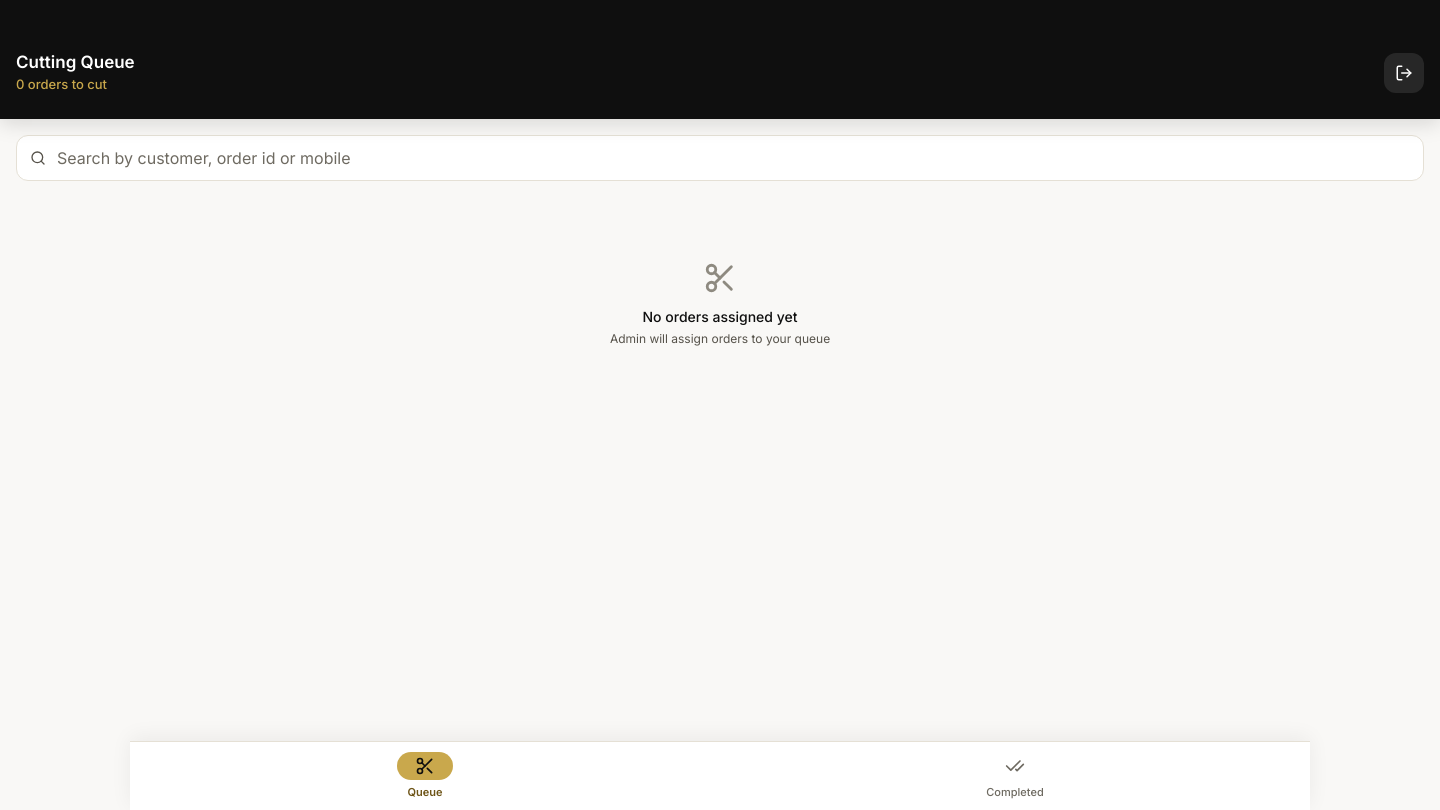
QueueBody › applies the search to the Completed tab too
This screenshot has width=1440, height=810.
Click the button "Completed" at (1015, 776), box [720,742,1310,809]
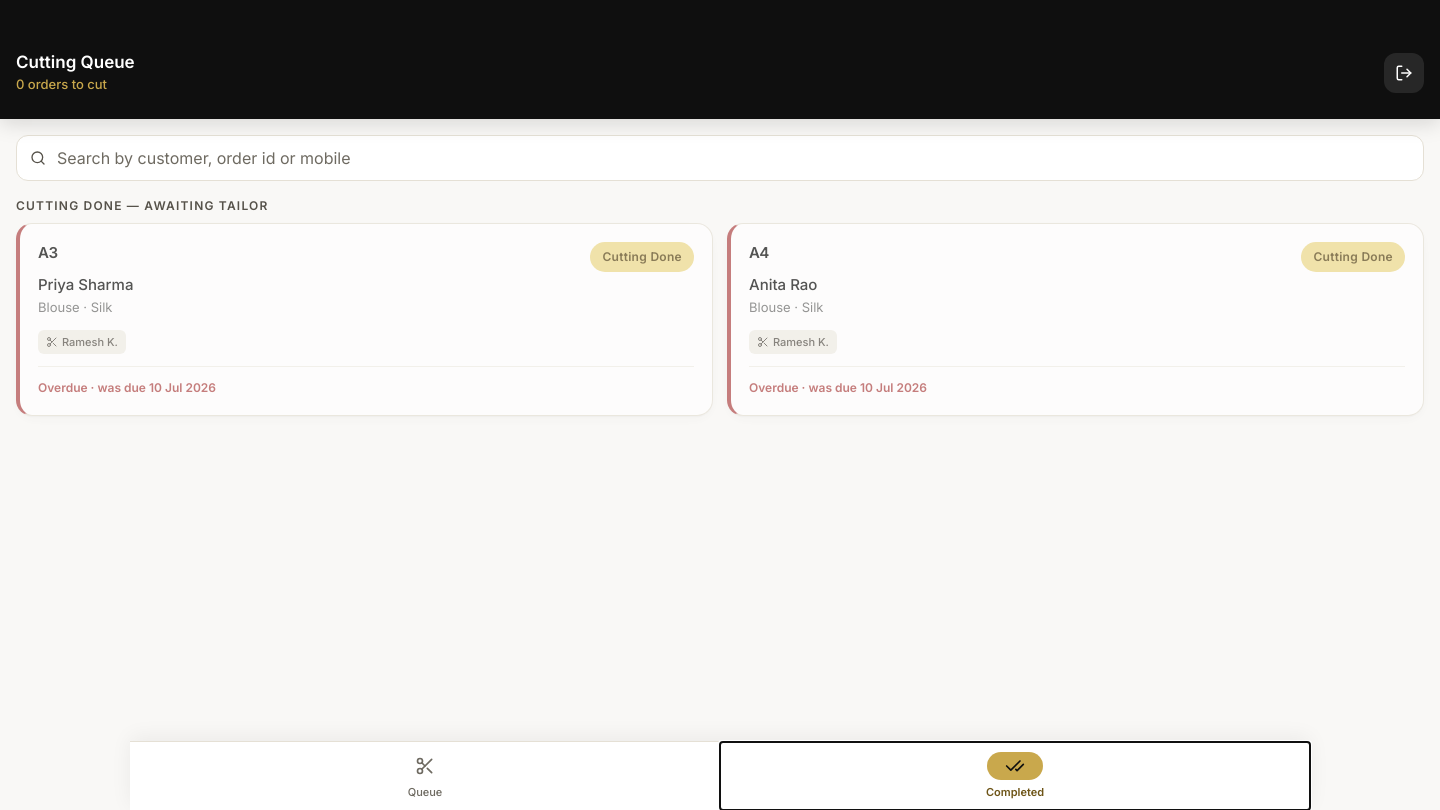
Type "anita" into the field named "Search orders" at (720, 158), box [16,135,1424,181]
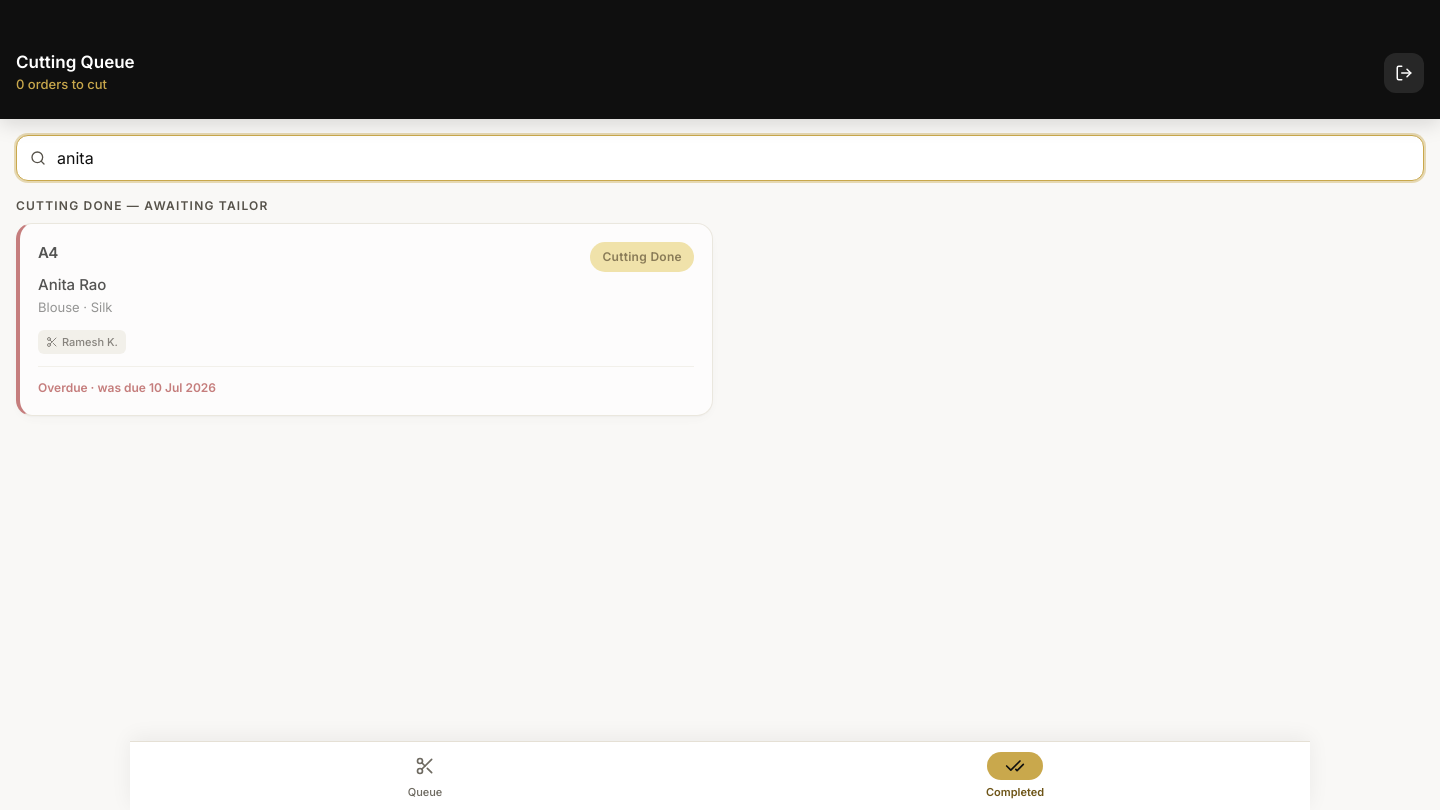
Expected: the text "A4" is shown, [38,242,58,264]
Expected: the button "A3" is gone
Replace the text in the field named "Search orders" with "nobody" at (720, 158), box [16,135,1424,181]
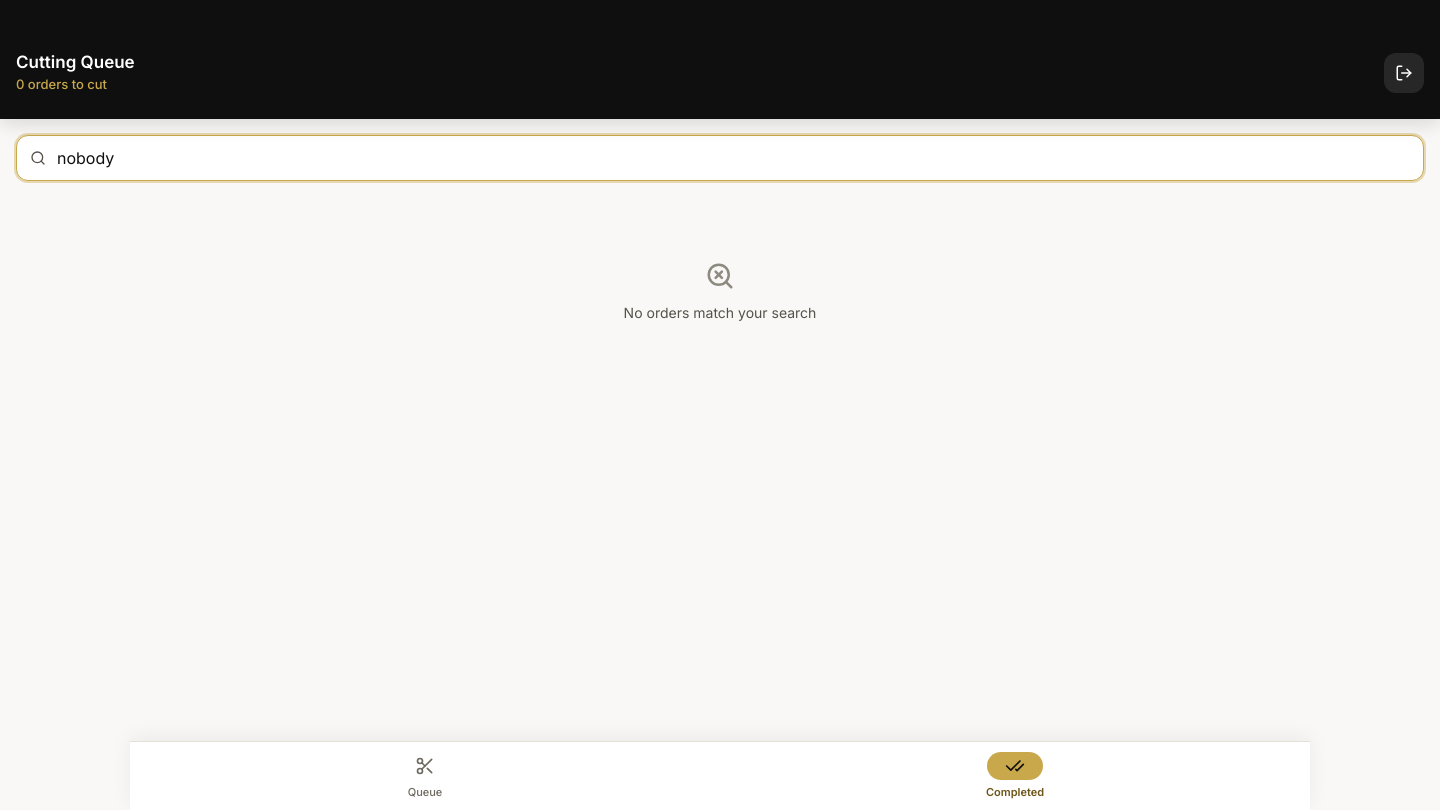
Expected: the text "No orders match your search" is shown, [624,304,816,321]
